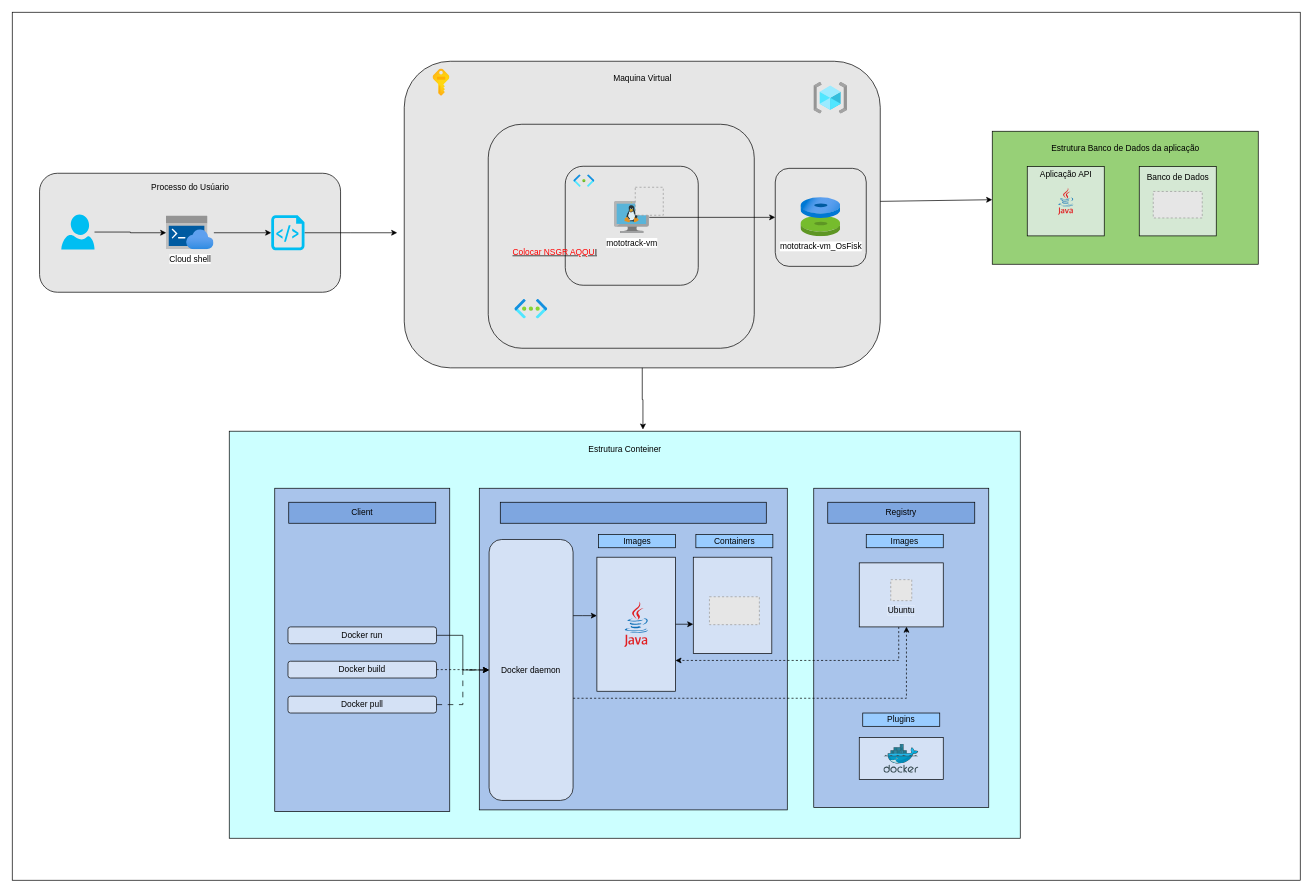
Some shapes in this 1313 by 893 pixel diagram are drawn without their labels. Grey dashed boxes stand in for pictures. The shapes that lost their labels are listed below. From the top down, each one's centre as x and y in pixels, then its label:
point (441, 82): Azure for Students
point (830, 98): mototrack-rg
point (583, 180): Subnet
point (77, 231): User
point (287, 232): criar-vm-mototrack.sh
point (530, 309): vnet-mototrack-vm
point (633, 512): Docker Host
